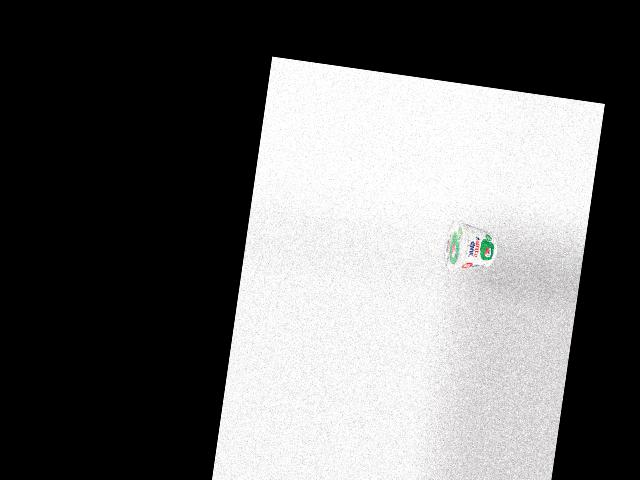cotage: (440, 217, 500, 278)
